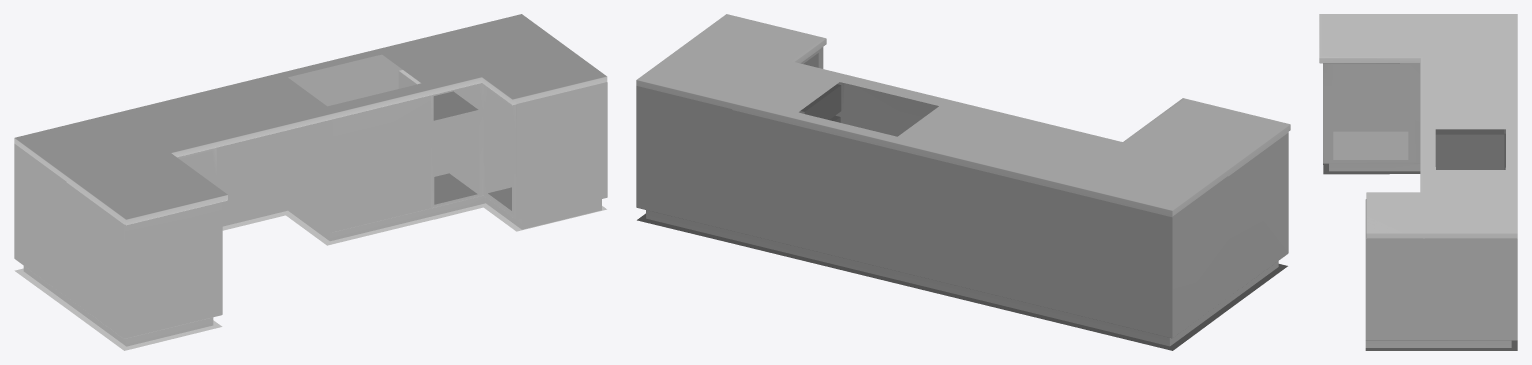
The model's file is StandardCounterHeightWidth_1fa306ec.obj.
The picture shows the model from 3 angles, left to right: view 1: azimuth 30°, elevation 25°; view 2: azimuth 150°, elevation 25°; view 3: azimuth 270°, elevation 25°; orthographic projection. The views are drawn at different scales.
Parts seen in each view (by area): view 1: StandardCounterHeightWidth_1fa306ec; view 2: StandardCounterHeightWidth_1fa306ec; view 3: StandardCounterHeightWidth_1fa306ec.
Boxes of the visible parts, x1,y1,x2,y2 form: StandardCounterHeightWidth_1fa306ec: (14, 14, 607, 350); StandardCounterHeightWidth_1fa306ec: (636, 14, 1290, 350); StandardCounterHeightWidth_1fa306ec: (1319, 14, 1517, 350).
Size of the model in its own units: 3.6 by 0.9 by 1.37.
